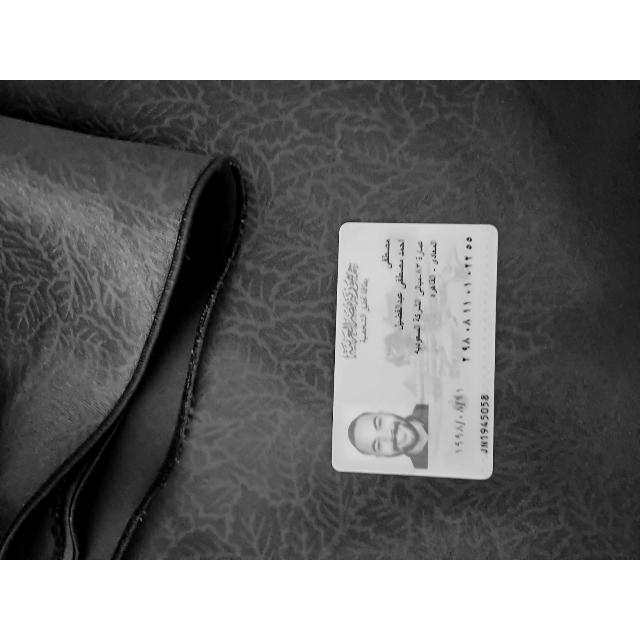front: (331, 222, 498, 479)
